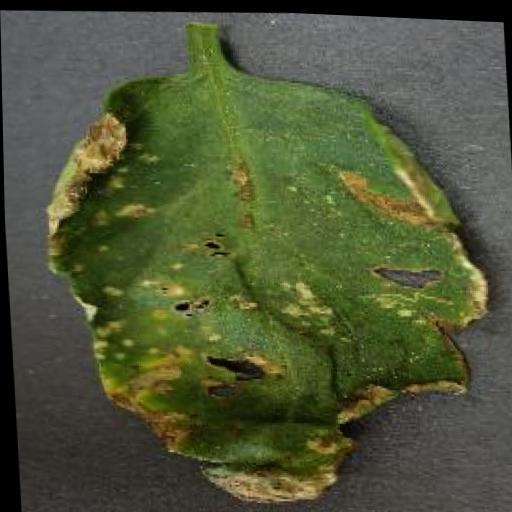Bacterial Spot: (31, 44, 500, 512)
